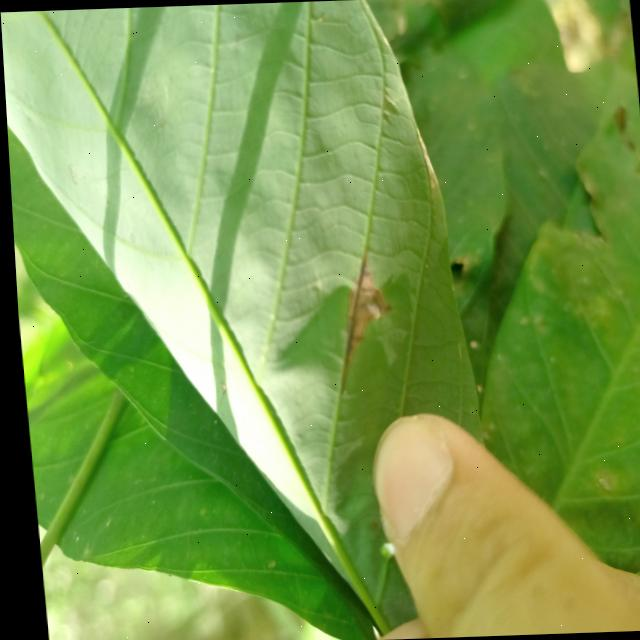Leaf-Blight: (333, 254, 390, 358)
